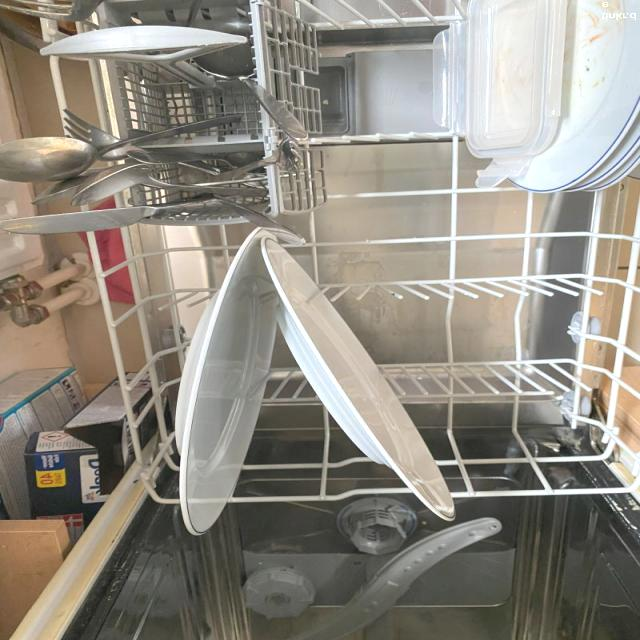clutery_bin: (8, 0, 289, 241)
empty_slot: (328, 145, 599, 302), (448, 303, 621, 477)
